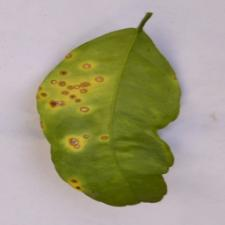Canker: (34, 35, 122, 194)
